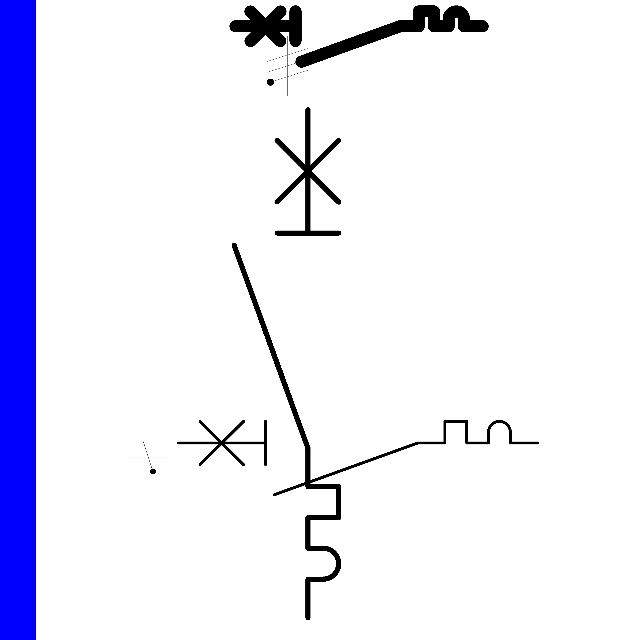interruptor_termomagnetico: (221, 96, 352, 631), (168, 412, 546, 504), (229, 5, 489, 68)
